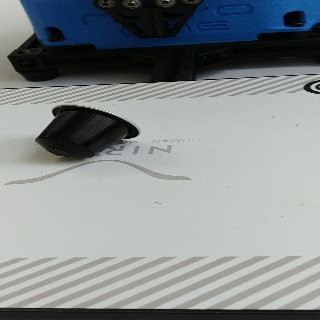capsule_10: (35, 103, 141, 159)
